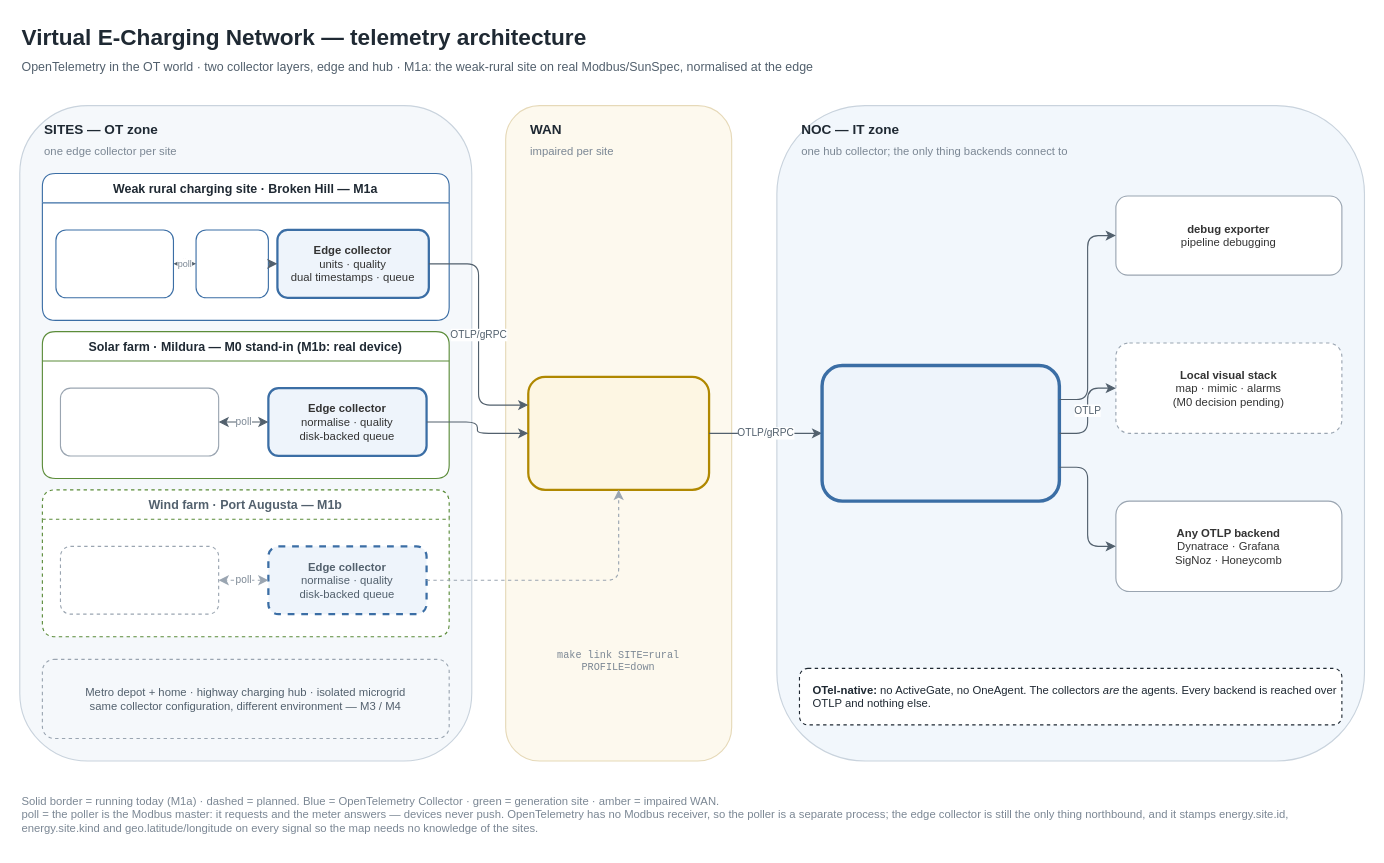
Some shapes in this 1384 by 863 pixel diagram are drawn without their labels. Each missing label, with the box of its shape:
Device source M0: stand-in M1b: Modbus / SunSpec: (59, 387, 219, 456)
Device source Modbus / SunSpec: (59, 545, 219, 614)
Hub collector order · enrich tail-sample · fanout self-telemetry: (820, 363, 1061, 502)
Modbus meter SunSpec int + SF: (55, 229, 173, 298)
poller Modbus → OTLP: (195, 229, 268, 298)
toxiproxy latency · loss bandwidth · outage: (527, 375, 710, 490)
